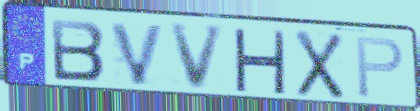B: (48, 17, 108, 83)
H: (231, 26, 288, 97)
P: (354, 35, 406, 100)
V: (168, 23, 229, 92), (108, 20, 168, 87)
X: (293, 28, 346, 102)
